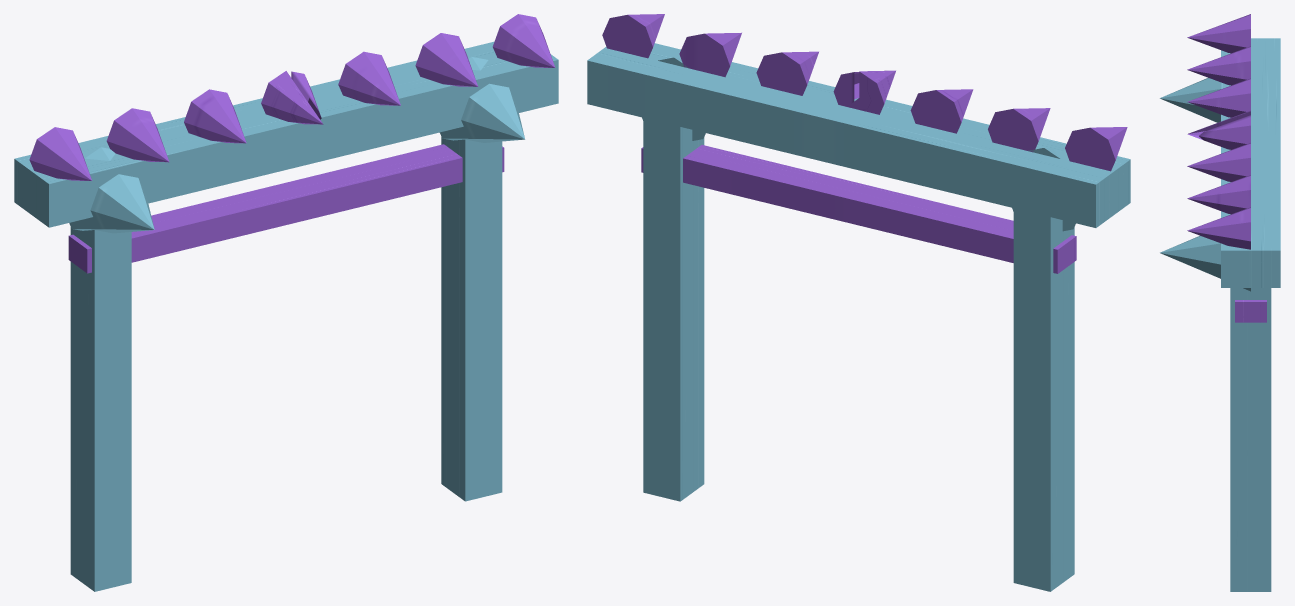
Rendered from frost_torii_gate.obj.
The picture shows the model from 3 angles, left to right: view 1: azimuth 30°, elevation 25°; view 2: azimuth 150°, elevation 25°; view 3: azimuth 270°, elevation 25°; orthographic projection. The views are drawn at different scales.
Bounding box in the file's own units: 11.1 × 9.55 × 2.65.
Materials: 1 (1 with a texture image).
